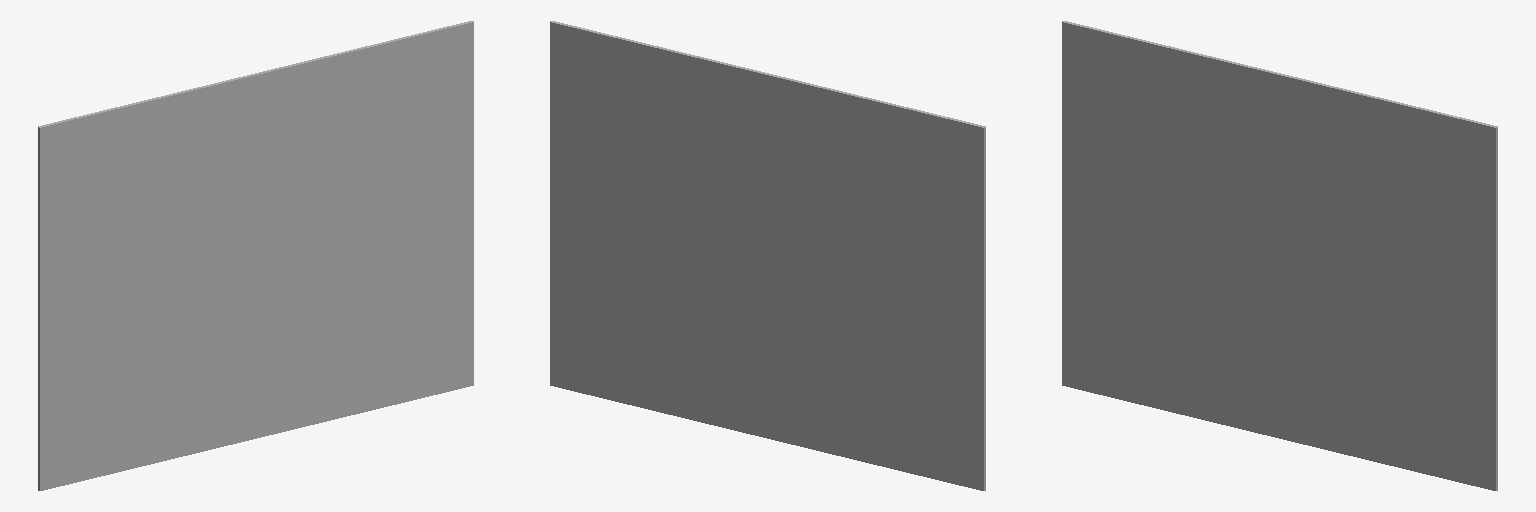
robot.urdf — root:
<robot name="root">
  <link name="link_001">
    <visual>
      <origin xyz="0 0 0" rpy="0 0 0"/>
      <geometry>
        <mesh filename="table.obj" scale="1.5000E+00 1.0000E+00 1.0000E+00"/>
      </geometry>
      <material name="">
        <color rgba="7.50E-01 7.50E-01 7.50E-01 1"/>
      </material>
    </visual>
    <collision>
      <origin xyz="0 0 0" rpy="0 0 0"/>
      <geometry>
        <mesh filename="table.obj" scale="1.5000E+00 1.0000E+00 1.0000E+00"/>
      </geometry>
    </collision>
    <inertial>
      <mass value="0.16"/> <!-- 质量：0.1kg -->
    </inertial>
  </link>
</robot>

--- Render facts (derived) ---
3 views of the same robot in one strip: view 1: azimuth 30°, elevation 25°; view 2: azimuth 150°, elevation 25°; view 3: azimuth 330°, elevation 25° (orthographic).
Robot: root — 1 links, 0 joints (none); root link link_001; default pose: all joints at 0.
Visible links, largest first — view 1: link_001; view 2: link_001; view 3: link_001.
Boxes of the visible links, x1,y1,x2,y2 form: link_001: (38, 21, 473, 490); link_001: (550, 21, 985, 490); link_001: (1062, 21, 1497, 490).
Bounding box of the posed robot: 0.675 × 0.0055 × 0.54 m (x, y, z).
1 mesh visuals loaded from 1 distinct referenced files (1 OBJ).
